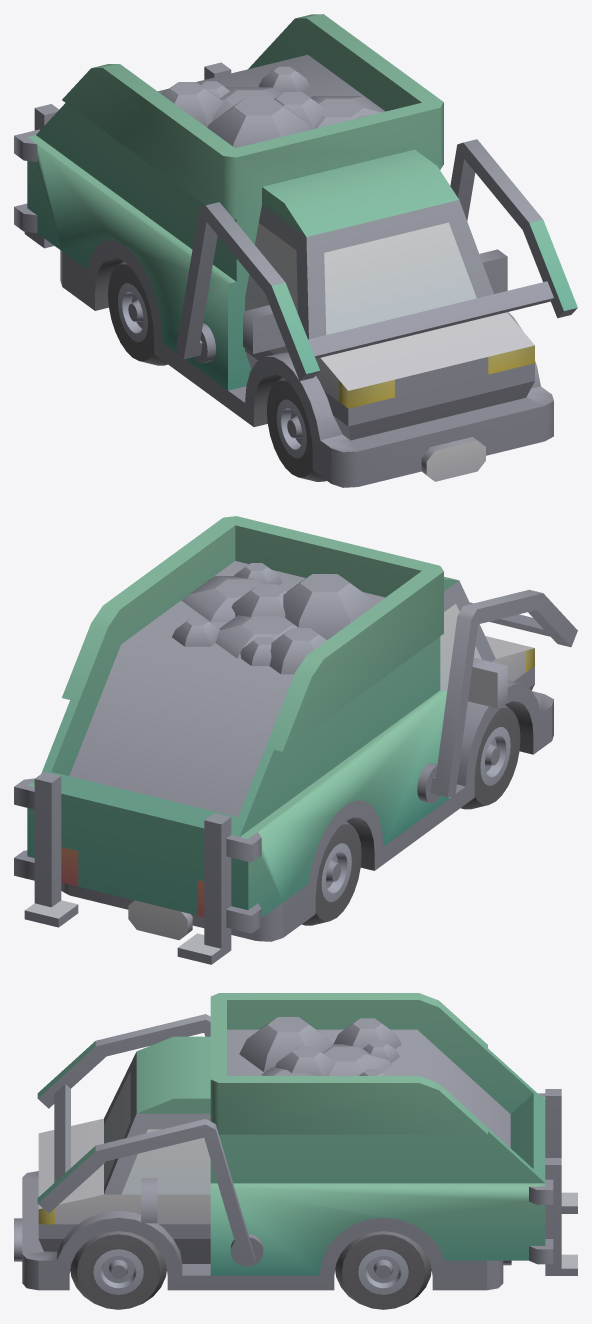
File: garbage.glb
The picture shows the model from 3 angles, top to bottom: view 1: azimuth 30°, elevation 25°; view 2: azimuth 150°, elevation 25°; view 3: azimuth 270°, elevation 25°; orthographic projection. The views are drawn at different scales.
Parts seen in each view (by area): view 1: garbage; view 2: garbage; view 3: garbage.
Part boxes in pixels (x1,y1,x2,y2): garbage: [14, 14, 577, 487]; garbage: [14, 516, 577, 964]; garbage: [14, 993, 577, 1309].
Size of the model in its own units: 1.6 by 1.6 by 3.45.
